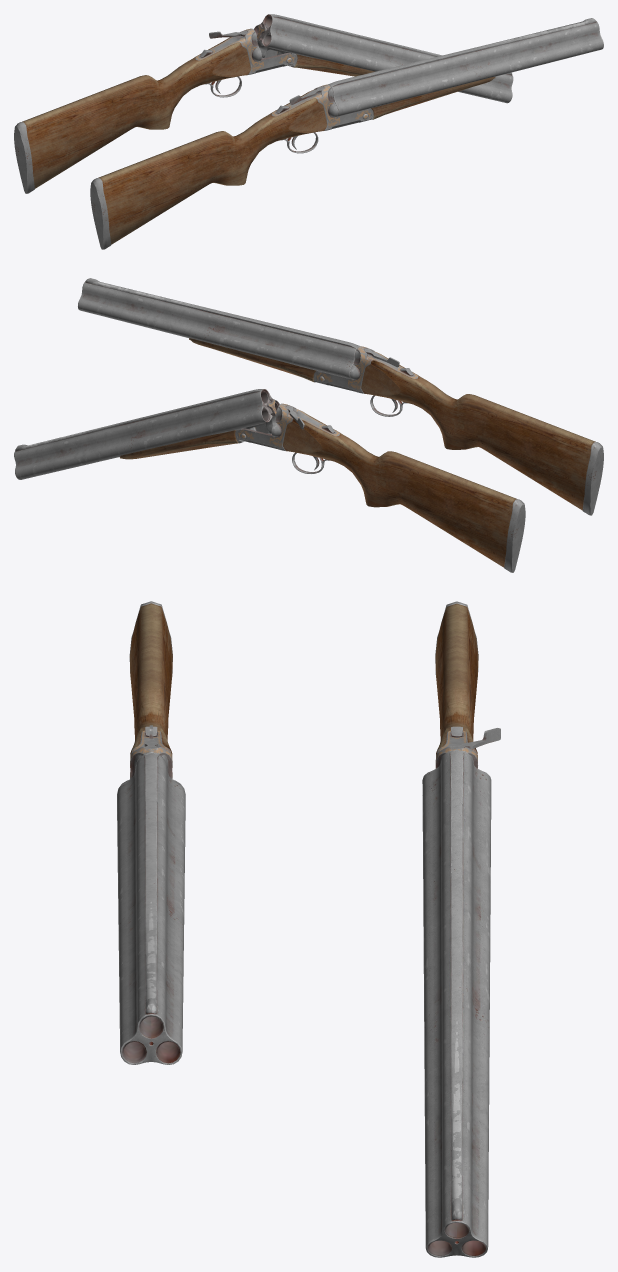
3 views of the same model, one above another, from view 1: azimuth 30°, elevation 25°; view 2: azimuth 150°, elevation 25°; view 3: azimuth 270°, elevation 25° (orthographic). The views are drawn at different scales.
Parts seen in each view (by area): view 1: Cylinder.001, Cylinder.002_4096_0, Cylinder.002_4096_0__misc; view 2: Cylinder.001, Cylinder.002_4096_0, Cylinder.002_4096_0__misc; view 3: Cylinder.002_4096_0, Cylinder.001, Cylinder.002_4096_0__misc.
Boxes of the visible parts, x1,y1,x2,y2 form: Cylinder.001: (90, 18, 603, 249); Cylinder.002_4096_0: (14, 14, 513, 193); Cylinder.002_4096_0__misc: (14, 16, 512, 193); Cylinder.001: (78, 278, 603, 515); Cylinder.002_4096_0: (14, 389, 524, 572); Cylinder.002_4096_0__misc: (15, 390, 525, 572); Cylinder.002_4096_0: (422, 601, 491, 1257); Cylinder.001: (117, 601, 185, 1064); Cylinder.002_4096_0__misc: (427, 602, 500, 1256).
Bounding box in the file's own units: 85.69 × 23 × 28.36.
1 material, 1 textured.
